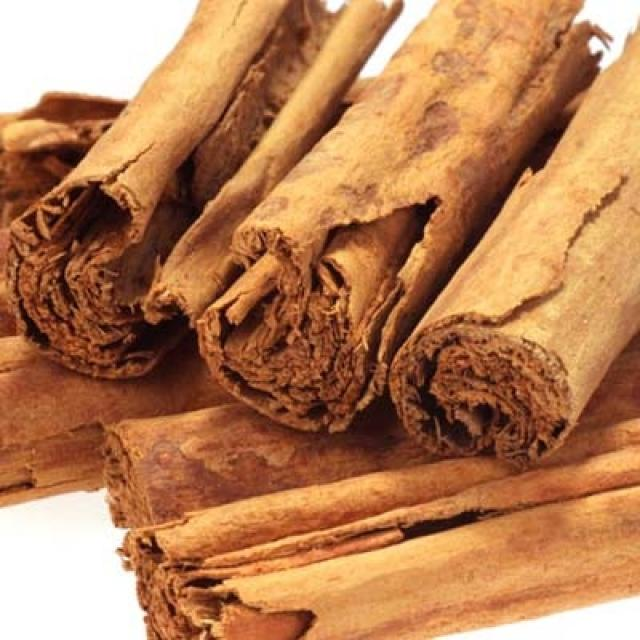Cinnamon: (196, 0, 600, 431), (391, 28, 640, 459), (9, 0, 287, 378), (145, 0, 401, 323), (176, 419, 640, 587), (222, 486, 640, 640), (105, 404, 434, 527), (0, 336, 232, 504), (155, 458, 516, 561)
